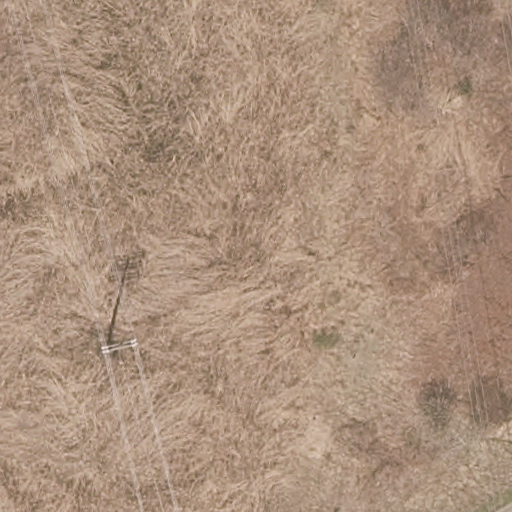DT: (98, 338, 140, 356)
